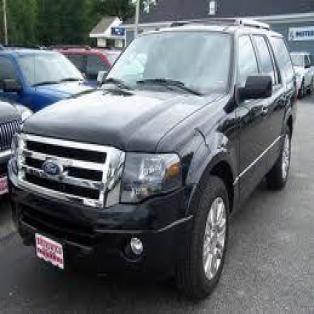Auto: (10, 22, 297, 300)
